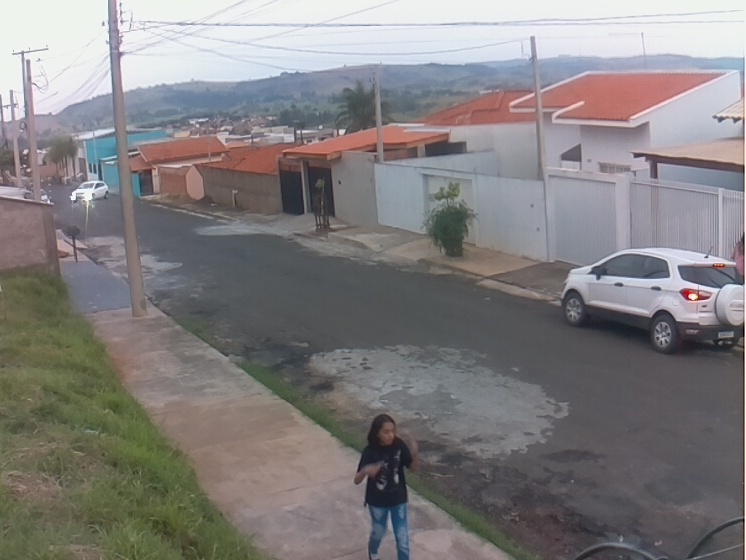person: (353, 411, 422, 560)
